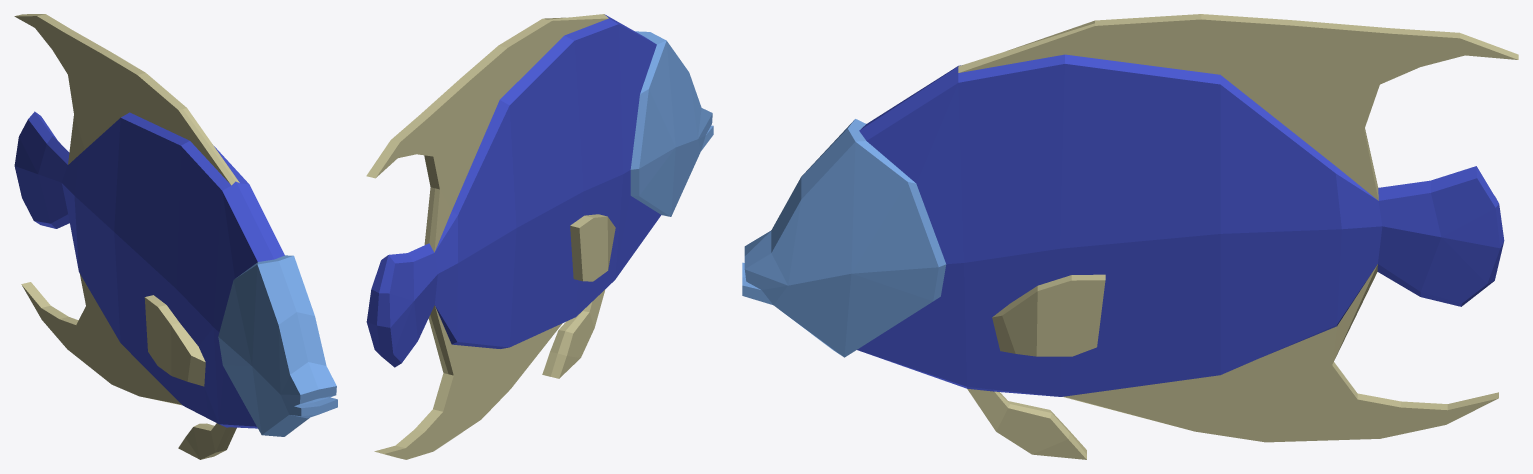
File: q_tang.fbx
3 views of the same model, side by side, from view 1: azimuth 30°, elevation 25°; view 2: azimuth 150°, elevation 25°; view 3: azimuth 270°, elevation 25° (orthographic). The views are drawn at different scales.
Parts seen in each view (by area): view 1: q_tang; view 2: q_tang; view 3: q_tang.
Boxes of the visible parts, x1=… form: q_tang: x1=14, y1=14, x2=337, y2=459; q_tang: x1=366, y1=14, x2=713, y2=459; q_tang: x1=742, y1=14, x2=1518, y2=459.
Bounding box in the file's own units: 0.1304 × 0.6228 × 1.
